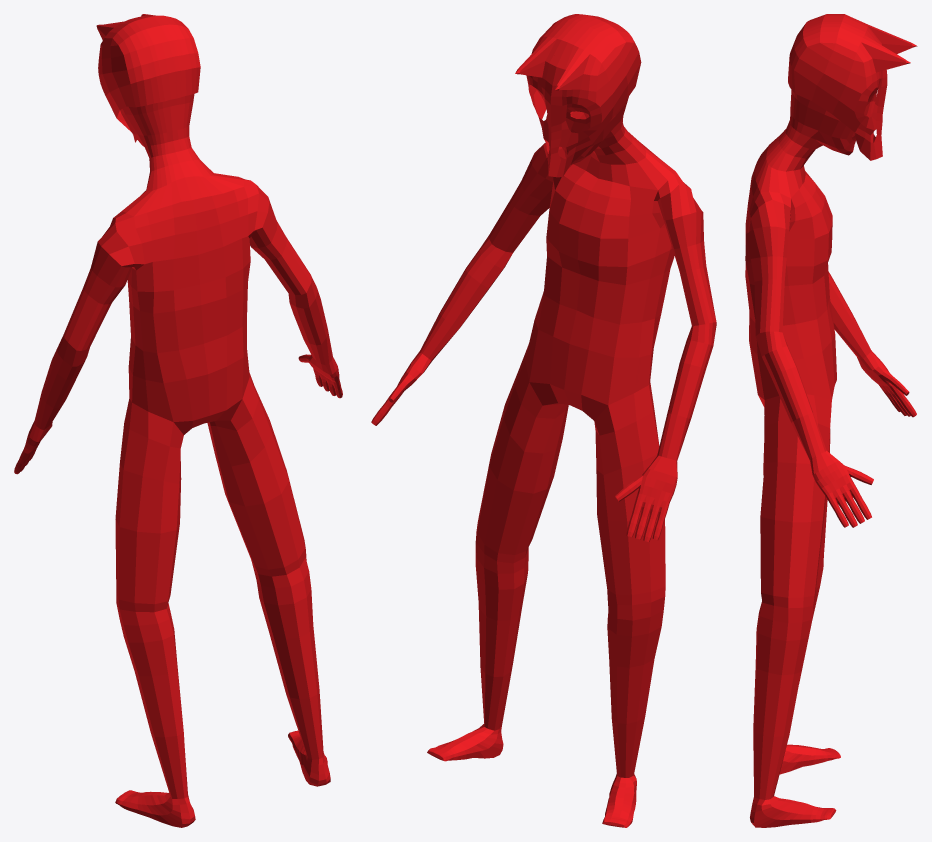
File: reposoE_000289.obj
3 renders of one model, left to right at view 1: azimuth 30°, elevation 25°; view 2: azimuth 150°, elevation 25°; view 3: azimuth 270°, elevation 25°, orthographic. The views are drawn at different scales.
Parts seen in each view (by area): view 1: Plane.002_Plane.001; view 2: Plane.002_Plane.001; view 3: Plane.002_Plane.001.
Part boxes in pixels (<box>): Plane.002_Plane.001: <box>14,14,342,827</box>; Plane.002_Plane.001: <box>371,14,716,827</box>; Plane.002_Plane.001: <box>745,14,917,827</box>.
Bounding box in the file's own units: 2.93 × 7.18 × 1.48.
